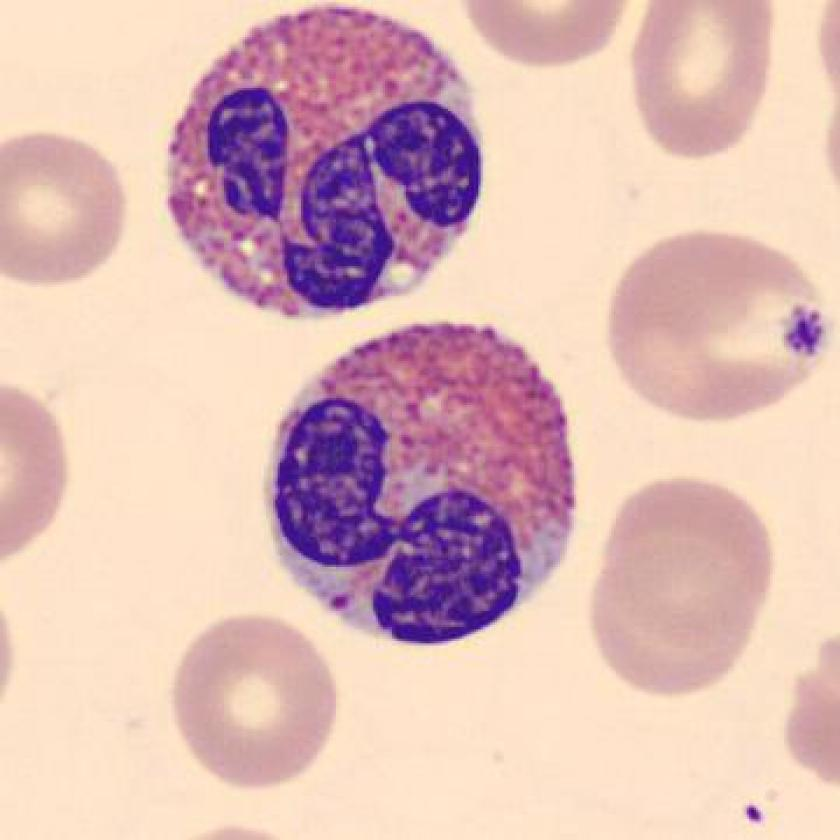eosinophil: (260, 318, 594, 654)
